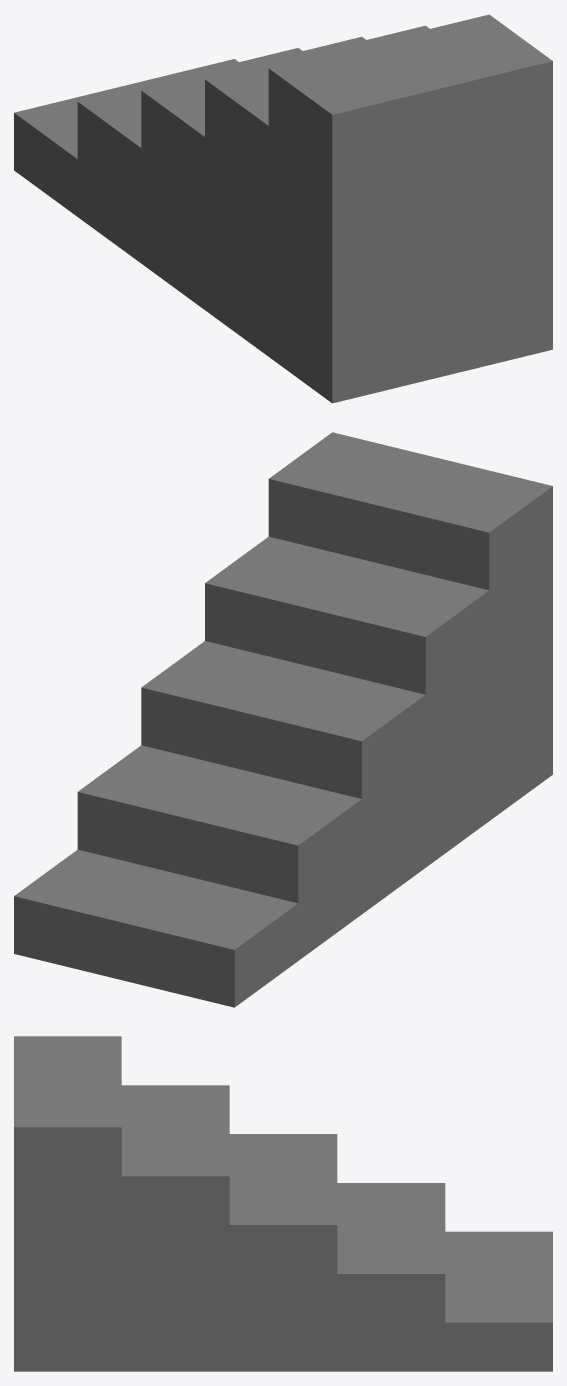
File: Body-25-Warship_Door.obj
3 views of the same model, one above another, from view 1: azimuth 30°, elevation 25°; view 2: azimuth 150°, elevation 25°; view 3: azimuth 270°, elevation 25° (orthographic). The views are drawn at different scales.
Parts seen in each view (by area): view 1: Warship_Door; view 2: Warship_Door; view 3: Warship_Door.
Boxes of the visible parts, <box> form: Warship_Door: <box>14,14,552,403</box>; Warship_Door: <box>14,432,552,1007</box>; Warship_Door: <box>14,1036,552,1371</box>.
Bounding box in the file's own units: 0.4 × 0.5 × 1.
1 material, 1 textured.
